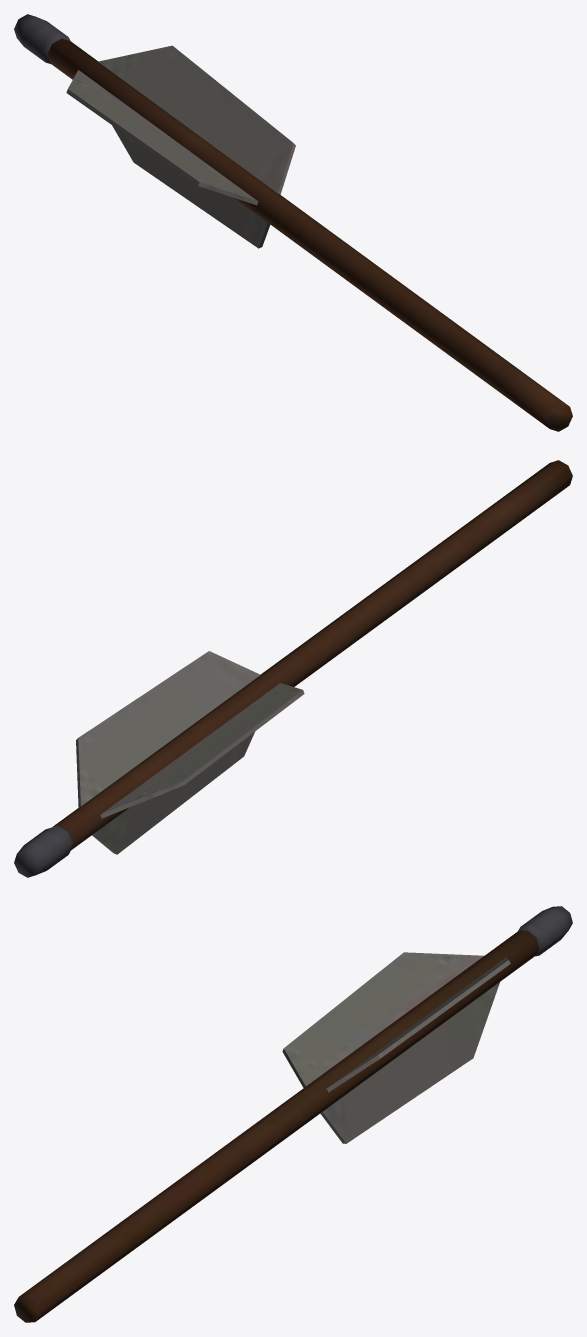
Rendered from arrow_stuck_short.glb.
The picture shows the model from 3 angles, top to bottom: view 1: azimuth 30°, elevation 25°; view 2: azimuth 150°, elevation 25°; view 3: azimuth 330°, elevation 25°; orthographic projection.
Parts seen in each view (by area): view 1: arrow_stuck_short; view 2: arrow_stuck_short; view 3: arrow_stuck_short.
Part boxes in pixels (bbox=[...]): arrow_stuck_short: bbox=[14, 14, 572, 431]; arrow_stuck_short: bbox=[14, 460, 572, 877]; arrow_stuck_short: bbox=[14, 906, 572, 1322].
Size of the model in its own units: 0.0348 by 0.033 by 0.2964.
1 material, 1 textured.
